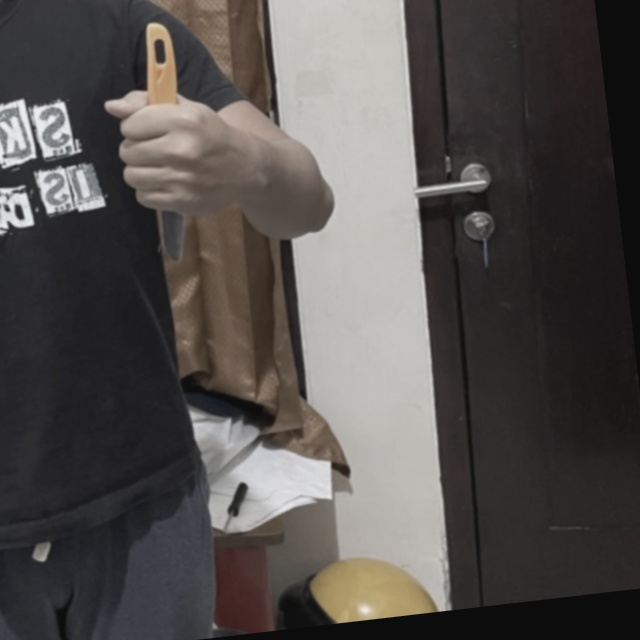Sharp-Object: (137, 18, 202, 269)
